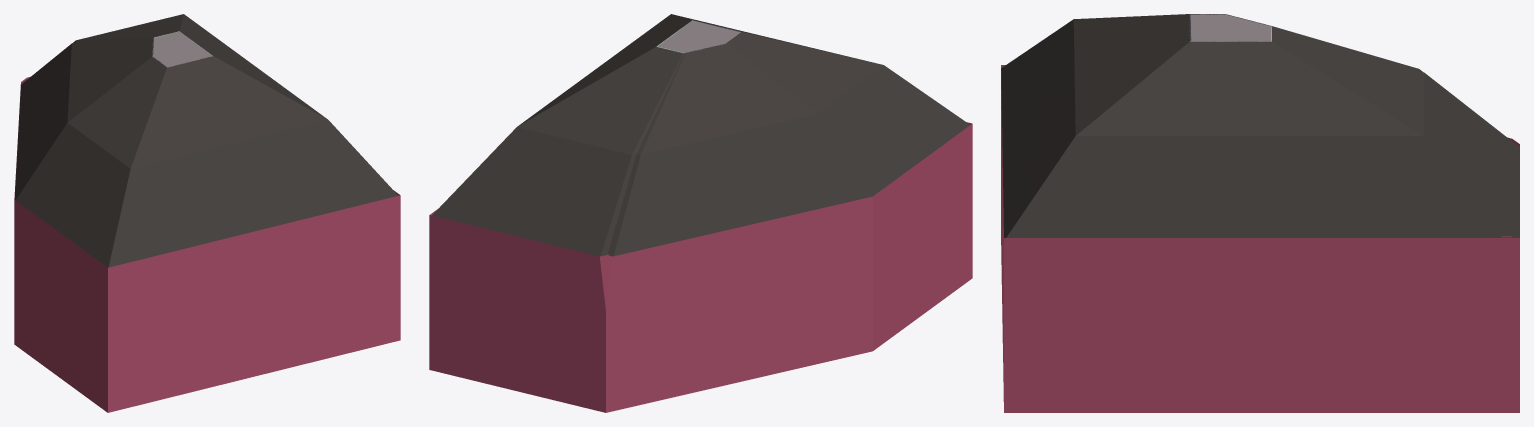
File: renkliSahne004.fbx
3 renders of one model, left to right at view 1: azimuth 30°, elevation 25°; view 2: azimuth 150°, elevation 25°; view 3: azimuth 270°, elevation 25°, orthographic. The views are drawn at different scales.
Visible parts, largest first — view 1: Cati, Studyo; view 2: Studyo, Cati; view 3: Cati, Studyo.
Boxes of the visible parts, bbox=[...] form: Cati: bbox=[14, 14, 398, 267]; Studyo: bbox=[14, 76, 400, 412]; Studyo: bbox=[429, 122, 972, 412]; Cati: bbox=[432, 14, 969, 256]; Cati: bbox=[1001, 14, 1519, 237]; Studyo: bbox=[1001, 65, 1519, 412].
Bounding box in the file's own units: 1885 × 1580 × 2390.
